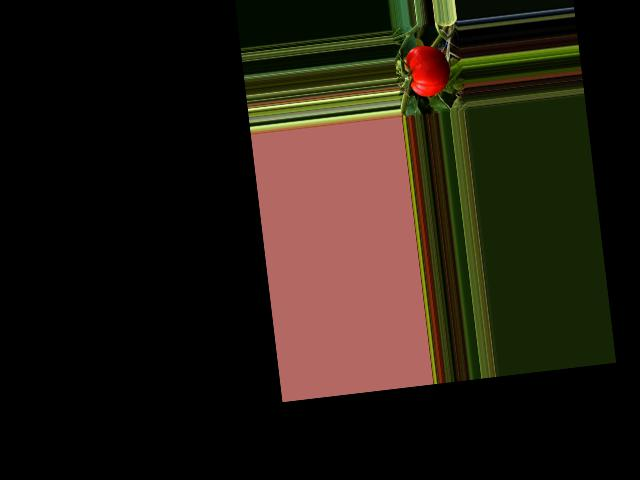tomato: (405, 42, 452, 98)
